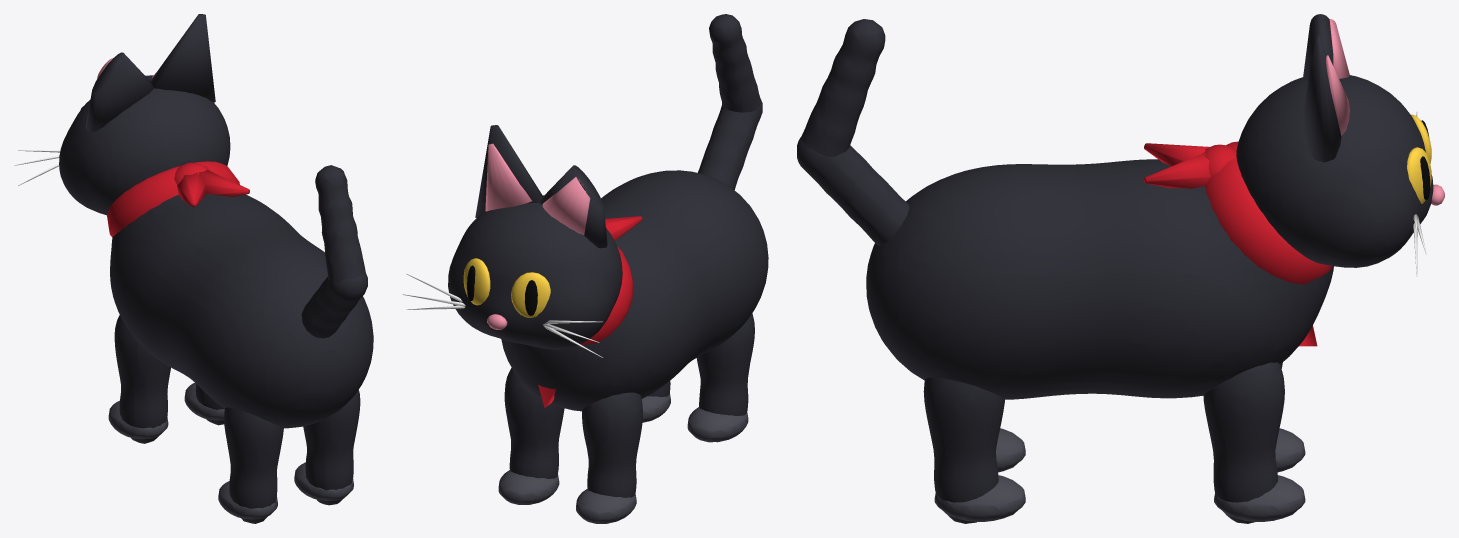
The model's file is tinto.glb.
3 views of the same model, side by side, from view 1: azimuth 30°, elevation 25°; view 2: azimuth 150°, elevation 25°; view 3: azimuth 270°, elevation 25° (orthographic). The views are drawn at different scales.
Parts seen in each view (by area): view 1: torso, head, leg_BL, leg_FL, leg_BR, tail_tip, ear_R, ear_L, panuelo, tail, knot, leg_FR; view 2: torso, head, leg_FL, leg_FR, leg_BL, tail_tip, ear_R, ear_L, tail, panuelo, eye_L, eye_R (+4 smaller); view 3: torso, head, leg_FR, leg_BR, tail_tip, panuelo, tail, ear_R, knot, ear_L, eye_R, leg_FL (+1 smaller).
Boxes of the visible parts, x1,y1,x2,y2 form: torso: (110, 193, 373, 428); head: (59, 75, 230, 215); leg_BL: (218, 407, 283, 523); leg_FL: (108, 315, 170, 443); leg_BR: (294, 390, 360, 505); tail_tip: (315, 165, 365, 282); ear_R: (150, 14, 215, 102); ear_L: (86, 52, 154, 131); panuelo: (107, 161, 239, 237); tail: (301, 273, 367, 338); knot: (174, 162, 249, 207); leg_FR: (184, 382, 224, 425); torso: (501, 170, 768, 411); head: (448, 195, 622, 349); leg_FL: (576, 392, 642, 523); leg_FR: (498, 368, 564, 504); leg_BL: (687, 313, 754, 442); tail_tip: (709, 14, 761, 112); ear_R: (475, 125, 542, 217); ear_L: (539, 165, 607, 248); tail: (697, 99, 762, 189); panuelo: (538, 246, 633, 407); eye_L: (511, 272, 550, 317); eye_R: (463, 258, 490, 305); torso: (866, 159, 1333, 399); head: (1236, 75, 1444, 267); leg_FR: (1203, 362, 1305, 523); leg_BR: (923, 377, 1025, 523); tail_tip: (801, 19, 885, 156); panuelo: (1205, 141, 1332, 346); tail: (797, 137, 909, 245); ear_R: (1303, 34, 1349, 162); knot: (1144, 143, 1236, 188); ear_L: (1303, 14, 1349, 81); eye_R: (1407, 147, 1431, 203); leg_FL: (1275, 362, 1305, 472).
Size of the model in its own units: 0.9159 by 1.75 by 2.09.
